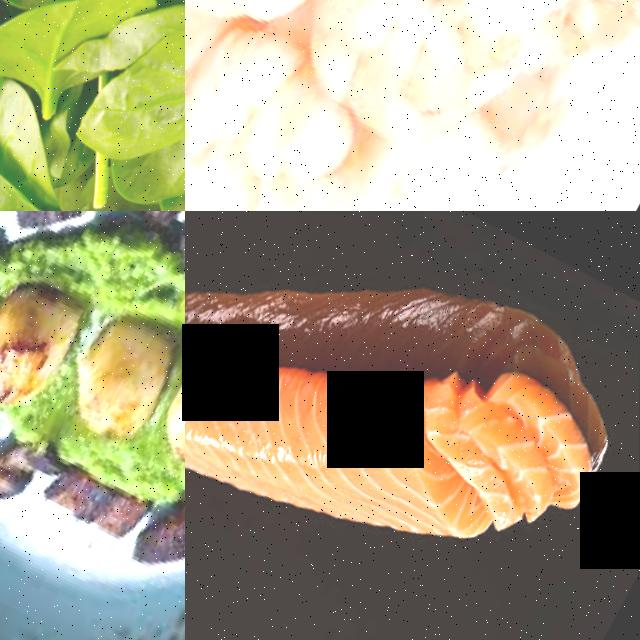salmon: (185, 261, 437, 584), (426, 355, 633, 556)
sea scallops: (59, 314, 185, 453), (151, 333, 185, 482)
shrimp: (269, 0, 634, 188), (530, 0, 640, 116)
spinach: (81, 0, 185, 195), (0, 141, 86, 211)
